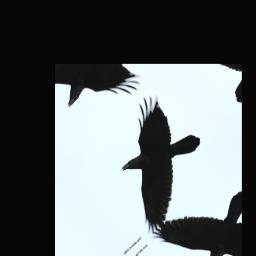Crow: (83, 84, 223, 235)
